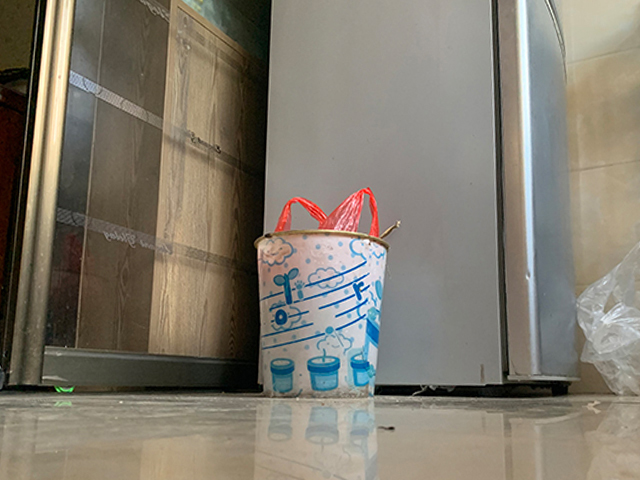trashcan: (253, 229, 390, 398)
